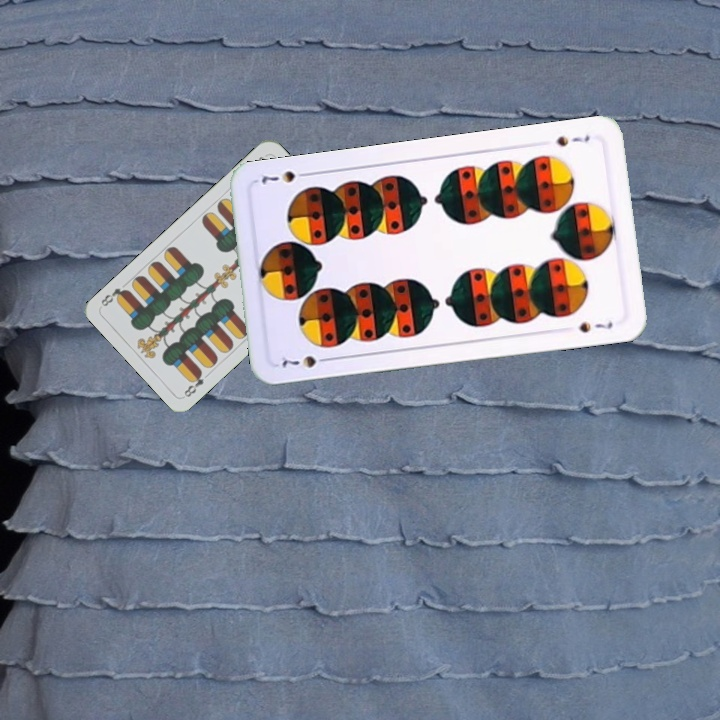E8: (180, 367, 207, 400)
S7: (278, 351, 334, 370), (552, 131, 592, 149)
